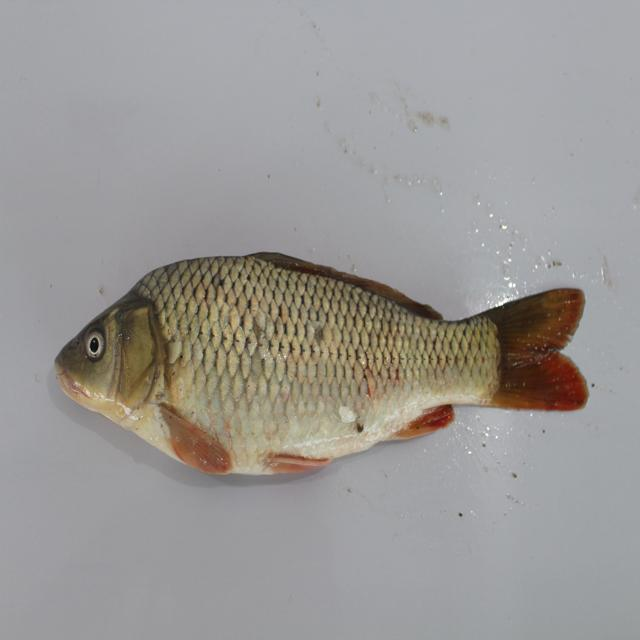CommonCarp: (41, 248, 592, 509)
